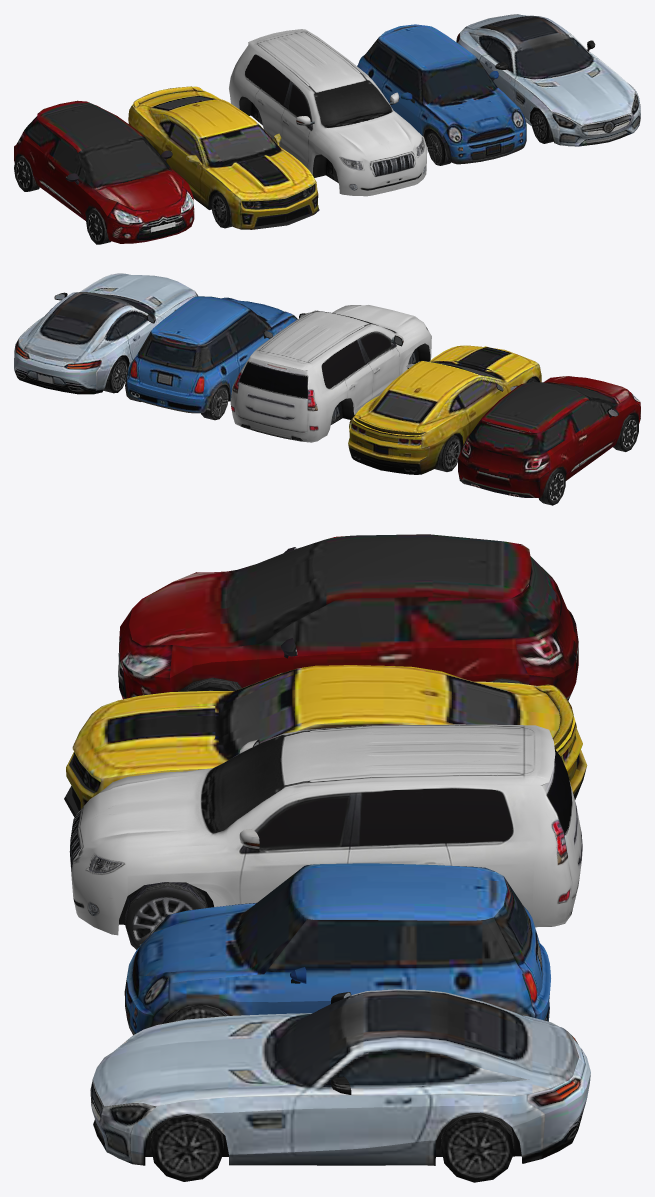
File: Prado Final.FBX
3 views of the same model, one above another, from view 1: azimuth 30°, elevation 25°; view 2: azimuth 150°, elevation 25°; view 3: azimuth 270°, elevation 25° (orthographic). The views are drawn at different scales.
Parts seen in each view (by area): view 1: Car_25:Body, Car_6:Body, car_13:Body, car_19:Body, car_27:Body, Car_6:Wheel_FR, Car_6:Wheel_BR, car_13:Wheel__FR, car_27:Wheel_FR, car_19:Wheel_FR; view 2: Car_25:Body, Car_6:Body, car_13:Body, car_19:Body, car_27:Body, Car_6:Wheel_BR, car_13:Wheel__BR, Car_6:Wheel_FR, car_19:Wheel_BR, car_27:Wheel_BR; view 3: Car_25:Body, car_19:Body, Car_6:Body, car_27:Body, car_13:Body, car_19:Wheel_BL, car_19:Wheel_FL, Wheel.
Part boxes in pixels (box(x1,y1,x2,y2)): Car_25:Body: box(229, 29, 427, 196); Car_6:Body: box(14, 100, 194, 243); car_13:Body: box(128, 86, 319, 229); car_19:Body: box(456, 14, 640, 146); car_27:Body: box(357, 24, 526, 164); Car_6:Wheel_FR: box(86, 208, 110, 244); Car_6:Wheel_BR: box(14, 155, 39, 191); car_13:Wheel__FR: box(211, 191, 231, 228); car_27:Wheel_FR: box(426, 129, 451, 165); car_19:Wheel_FR: box(531, 108, 553, 143); Car_25:Body: box(230, 305, 431, 442); Car_6:Body: box(458, 376, 640, 497); car_13:Body: box(348, 345, 541, 474); car_19:Body: box(14, 273, 197, 394); car_27:Body: box(125, 296, 297, 413); Car_6:Wheel_BR: box(538, 468, 565, 505); car_13:Wheel__BR: box(435, 435, 461, 471); Car_6:Wheel_FR: box(613, 414, 638, 451); car_19:Wheel_BR: box(103, 356, 127, 393); car_27:Wheel_BR: box(200, 384, 228, 420); Car_25:Body: box(69, 724, 582, 935); car_19:Body: box(90, 989, 590, 1165); Car_6:Body: box(118, 534, 578, 700); car_27:Body: box(124, 863, 550, 1034); car_13:Body: box(64, 665, 587, 817); car_19:Wheel_BL: box(441, 1112, 514, 1182); car_19:Wheel_FL: box(150, 1114, 224, 1181); Wheel: box(125, 882, 207, 949).
Bounding box in the file's own units: 16.72 × 2.6 × 7.04.
1 material, 1 textured.
